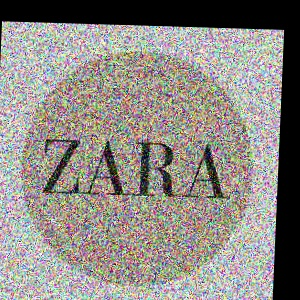zara: (212, 84, 258, 198)
